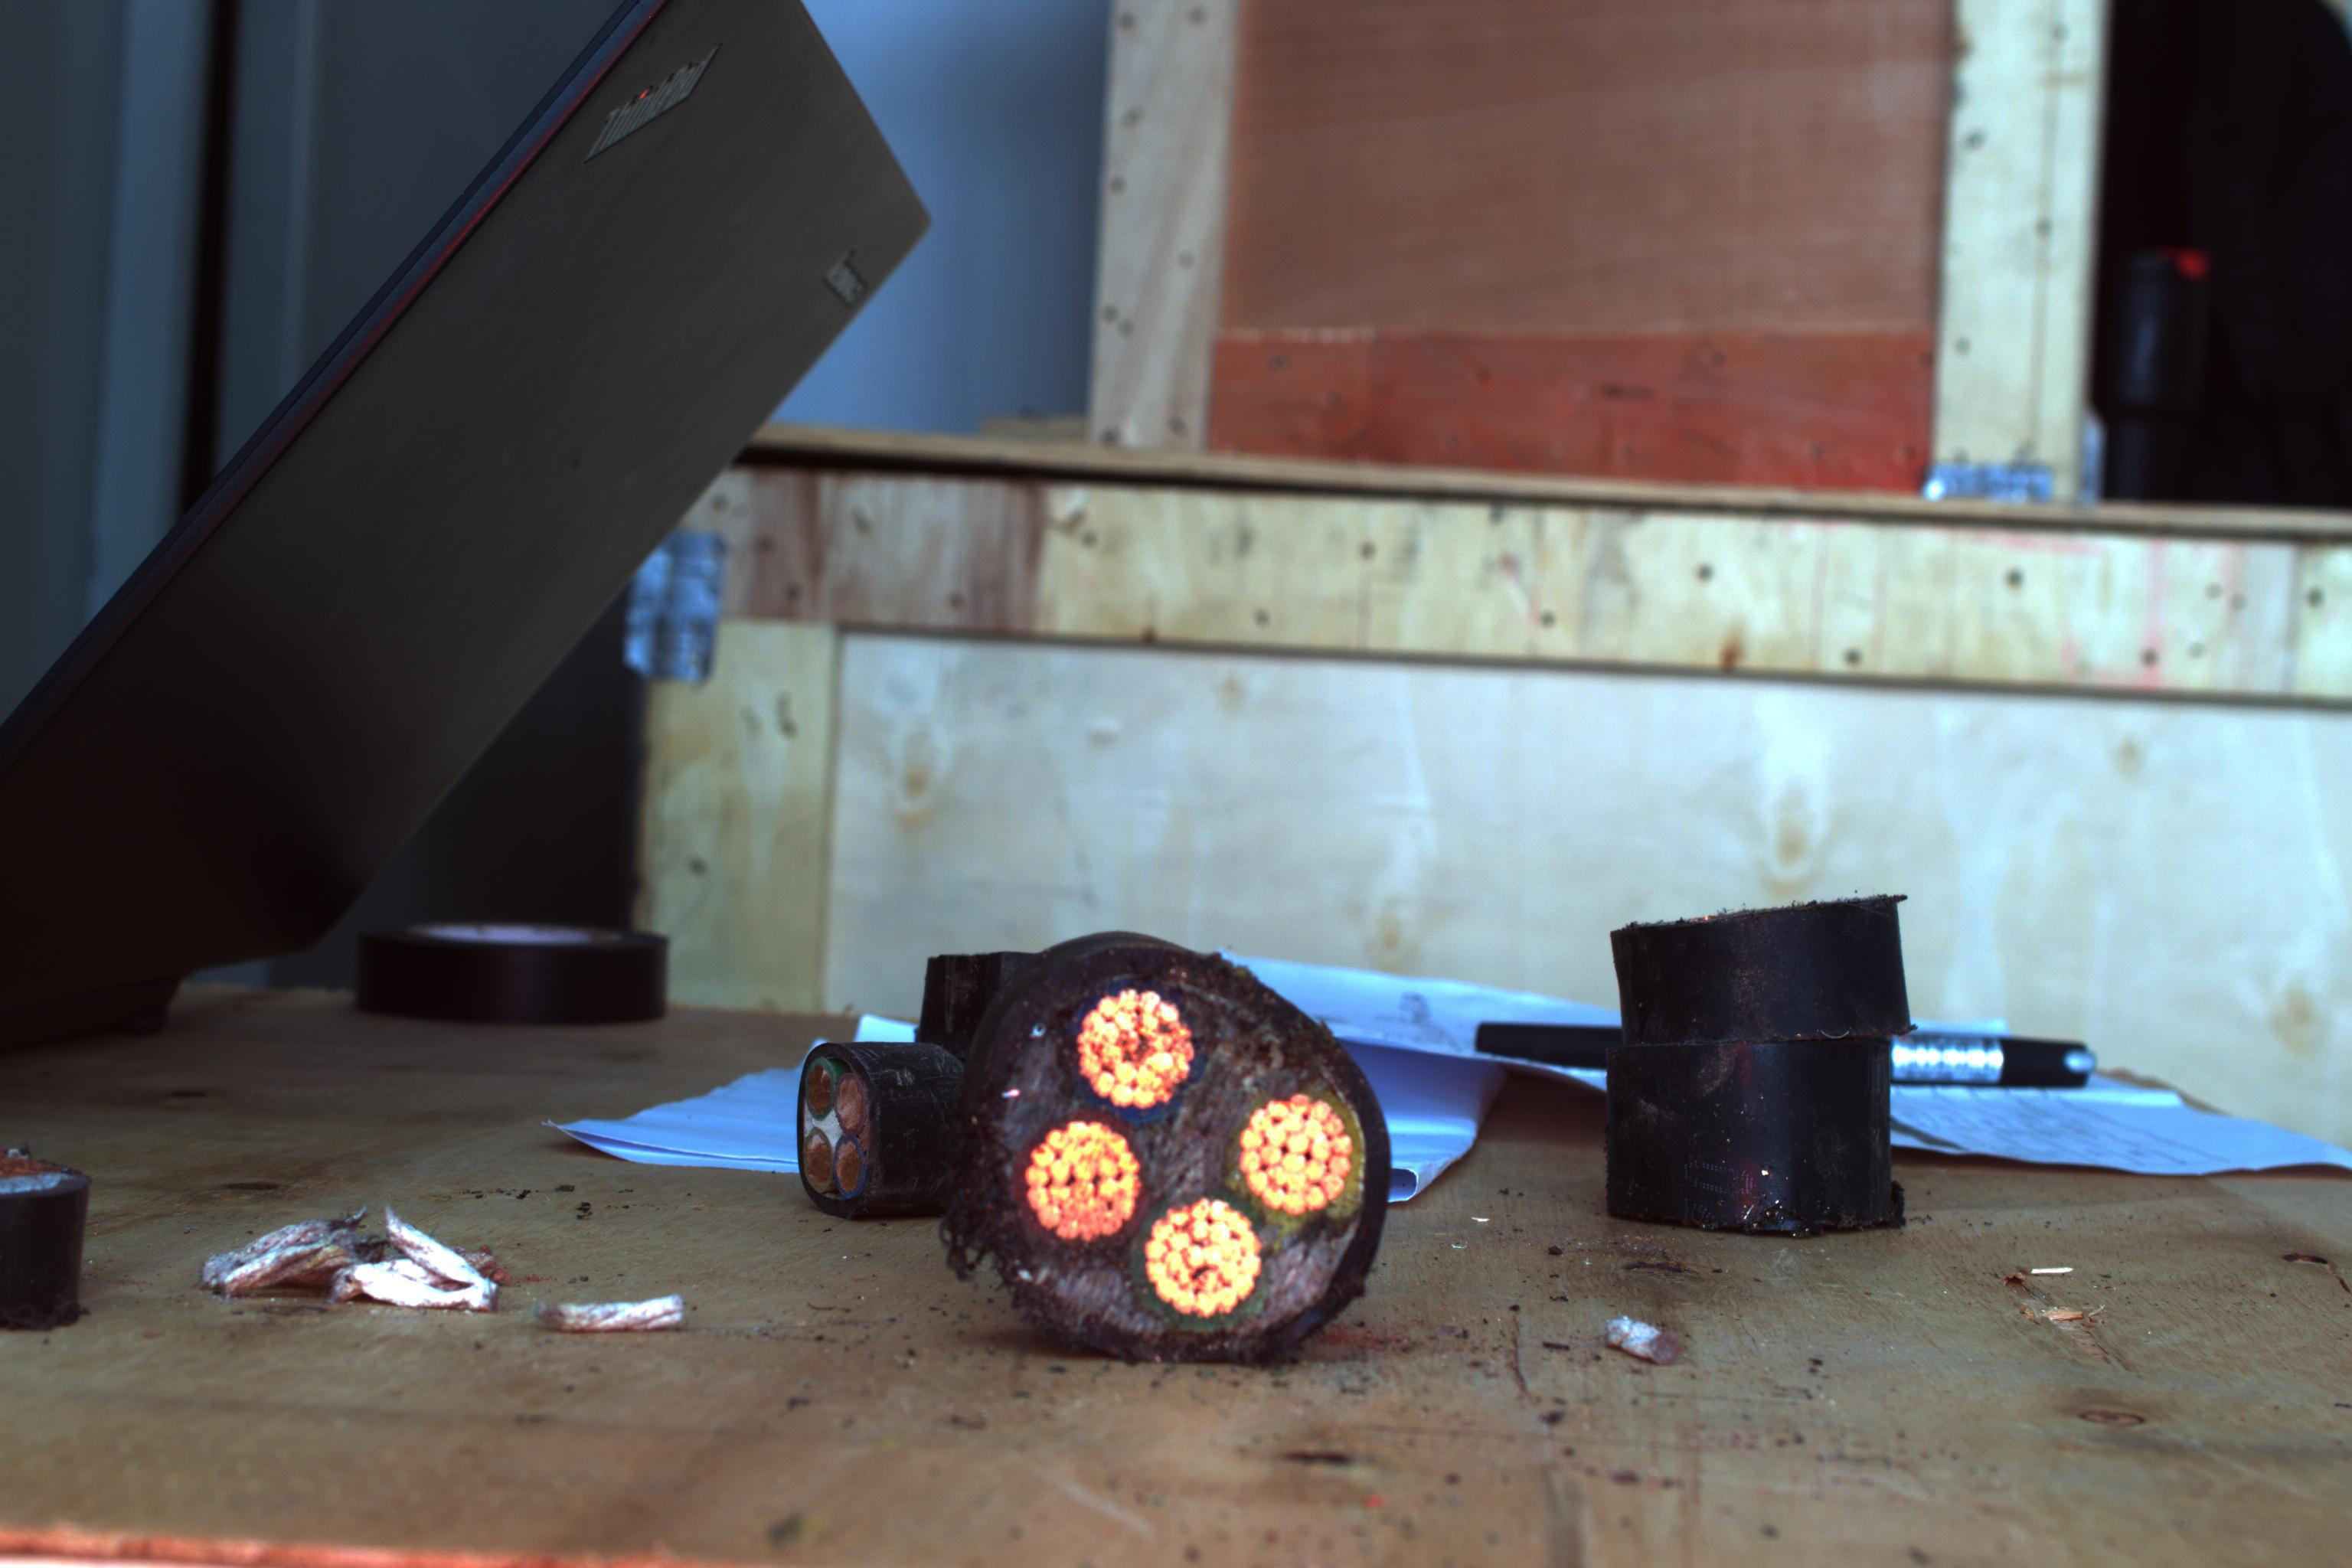YJV_0.6_1kV_4x120: (961, 929, 1374, 1354)
